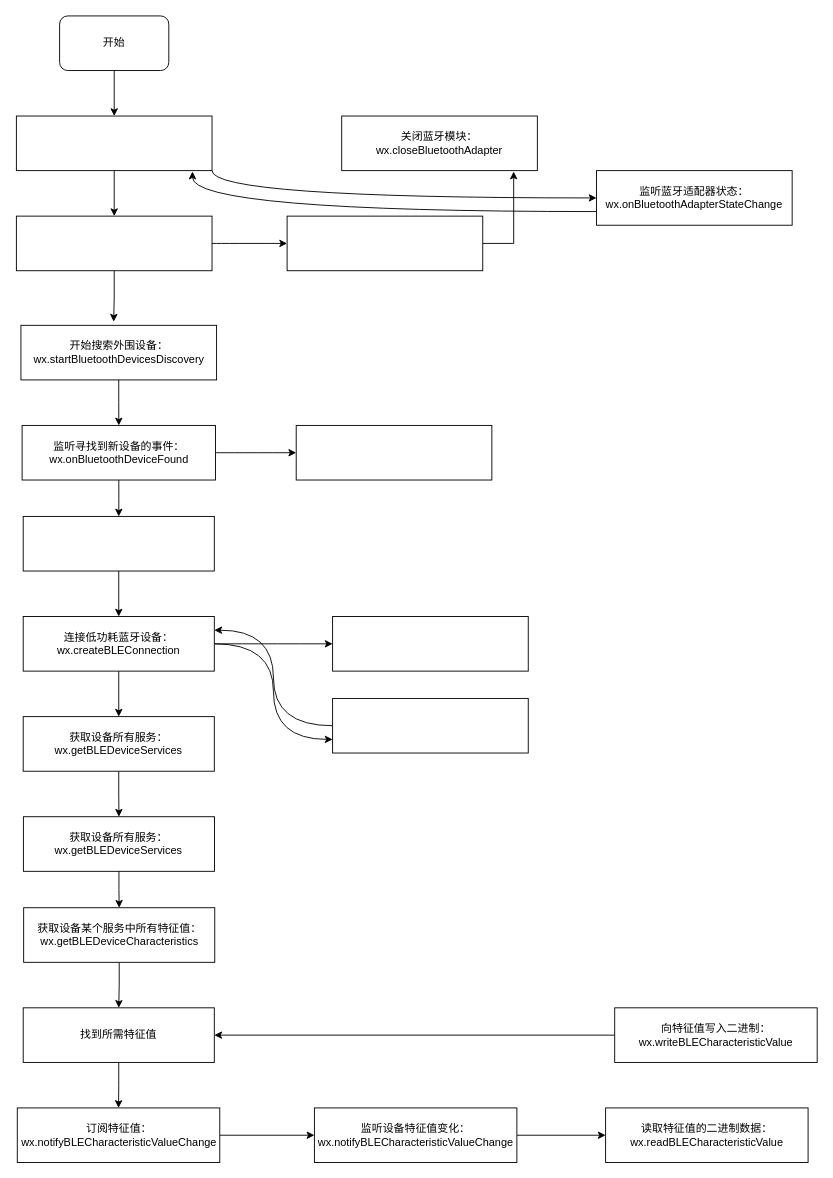
Image size: 833x1178. Some labels were removed from this diagram. The centre of each missing label's shape, as x and y in pixels:
"初始化蓝牙模块：wx.openBluetoothAdapter" goes at point (113, 143).
"所有已发现设备：wx.getBluetoothDevices" goes at point (118, 543).
"找到设备，停止搜寻外围设备：wx.stopBluetoothDevicesDiscovery" goes at point (393, 452).
"提示用户不可用" goes at point (384, 243).
"断开与BLE设备连接：wx.closeBLEConnection" goes at point (430, 643).
"监听低功耗蓝牙连接状态的改变事件：wxl.onBLEConnectionStateChange" goes at point (430, 725).
"获取本机蓝牙适配器状态：wx.getBluetoothAdapterState" goes at point (113, 243).
